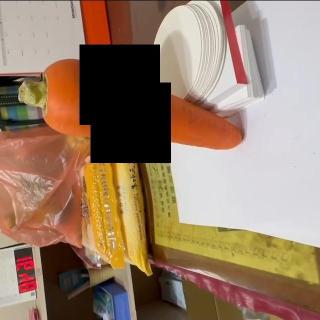carrot: (17, 58, 245, 150)
